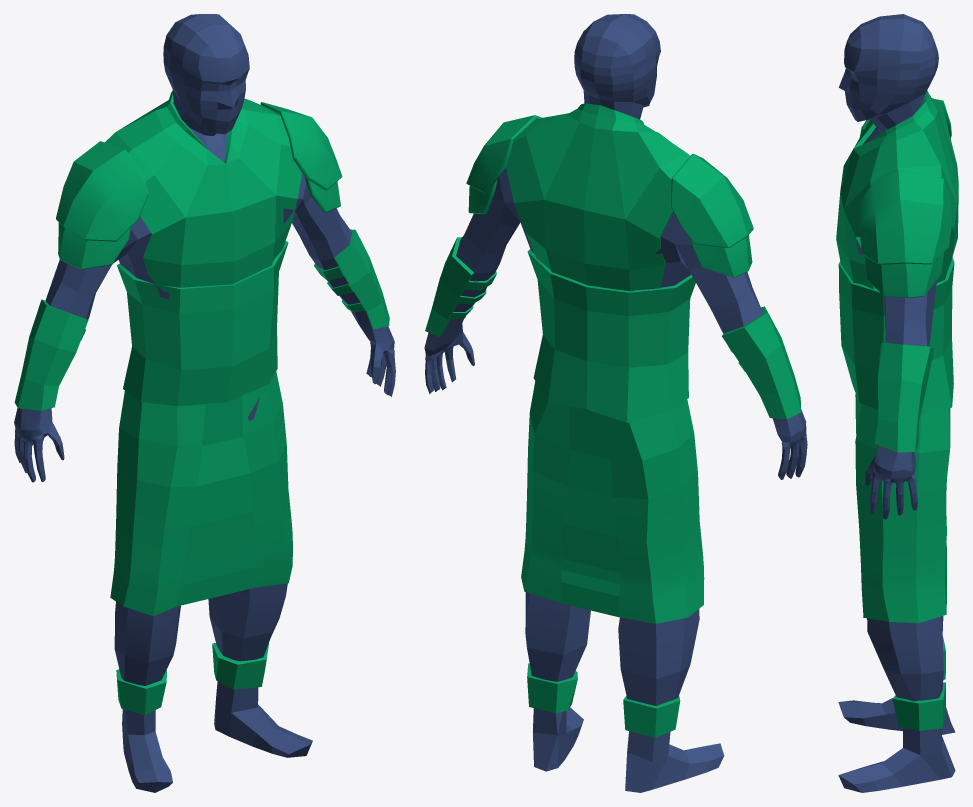
File: Batyr.fbx
The picture shows the model from 3 angles, left to right: view 1: azimuth 30°, elevation 25°; view 2: azimuth 150°, elevation 25°; view 3: azimuth 270°, elevation 25°; orthographic projection.
Visible parts, largest first — view 1: BatyrBody, BatyrBottm, BatyrBodyArmor, BatyrMidBelt, BatyrSholderArmor1, BatyrArmArmor, BatyrLegArmor, BatyrSholderArmor2, BatyrArmSub; view 2: BatyrBody, BatyrBottm, BatyrBodyArmor, BatyrMidBelt, BatyrSholderArmor1, BatyrArmArmor, BatyrLegArmor, BatyrSholderArmor2; view 3: BatyrBody, BatyrBottm, BatyrBodyArmor, BatyrSholderArmor1, BatyrMidBelt, BatyrArmArmor, BatyrSholderArmor2, BatyrLegArmor.
Part boxes in pixels (x1=…): BatyrBody: x1=14, y1=14, x2=395, y2=792; BatyrBottm: x1=110, y1=371, x2=292, y2=615; BatyrBodyArmor: x1=105, y1=91, x2=301, y2=292; BatyrMidBelt: x1=117, y1=241, x2=288, y2=406; BatyrSholderArmor1: x1=56, y1=102, x2=342, y2=241; BatyrArmArmor: x1=14, y1=229, x2=389, y2=410; BatyrLegArmor: x1=116, y1=643, x2=268, y2=715; BatyrSholderArmor2: x1=58, y1=176, x2=340, y2=269; BatyrArmSub: x1=81, y1=263, x2=365, y2=340; BatyrBody: x1=424, y1=14, x2=807, y2=792; BatyrBottm: x1=521, y1=381, x2=704, y2=623; BatyrBodyArmor: x1=506, y1=103, x2=690, y2=291; BatyrMidBelt: x1=527, y1=249, x2=695, y2=422; BatyrSholderArmor1: x1=466, y1=115, x2=753, y2=247; BatyrArmArmor: x1=425, y1=237, x2=801, y2=419; BatyrLegArmor: x1=527, y1=663, x2=680, y2=737; BatyrSholderArmor2: x1=468, y1=180, x2=752, y2=277; BatyrBody: x1=838, y1=14, x2=955, y2=792; BatyrBottm: x1=855, y1=394, x2=950, y2=623; BatyrBodyArmor: x1=836, y1=90, x2=958, y2=288; BatyrSholderArmor1: x1=858, y1=99, x2=951, y2=264; BatyrMidBelt: x1=838, y1=257, x2=954, y2=413; BatyrArmArmor: x1=874, y1=342, x2=933, y2=452; BatyrSholderArmor2: x1=864, y1=252, x2=944, y2=297; BatyrLegArmor: x1=892, y1=637, x2=945, y2=730.
Size of the model in its own units: 8.52 by 16.16 by 2.45.
